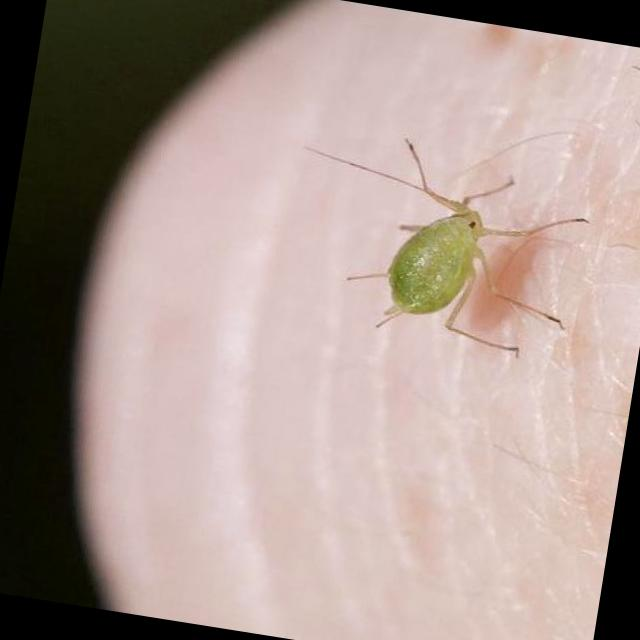aphid: (327, 130, 597, 374)
